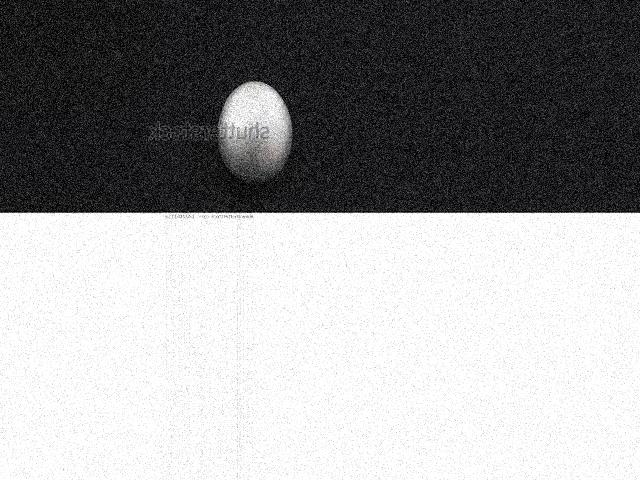egg: (219, 80, 292, 182)
